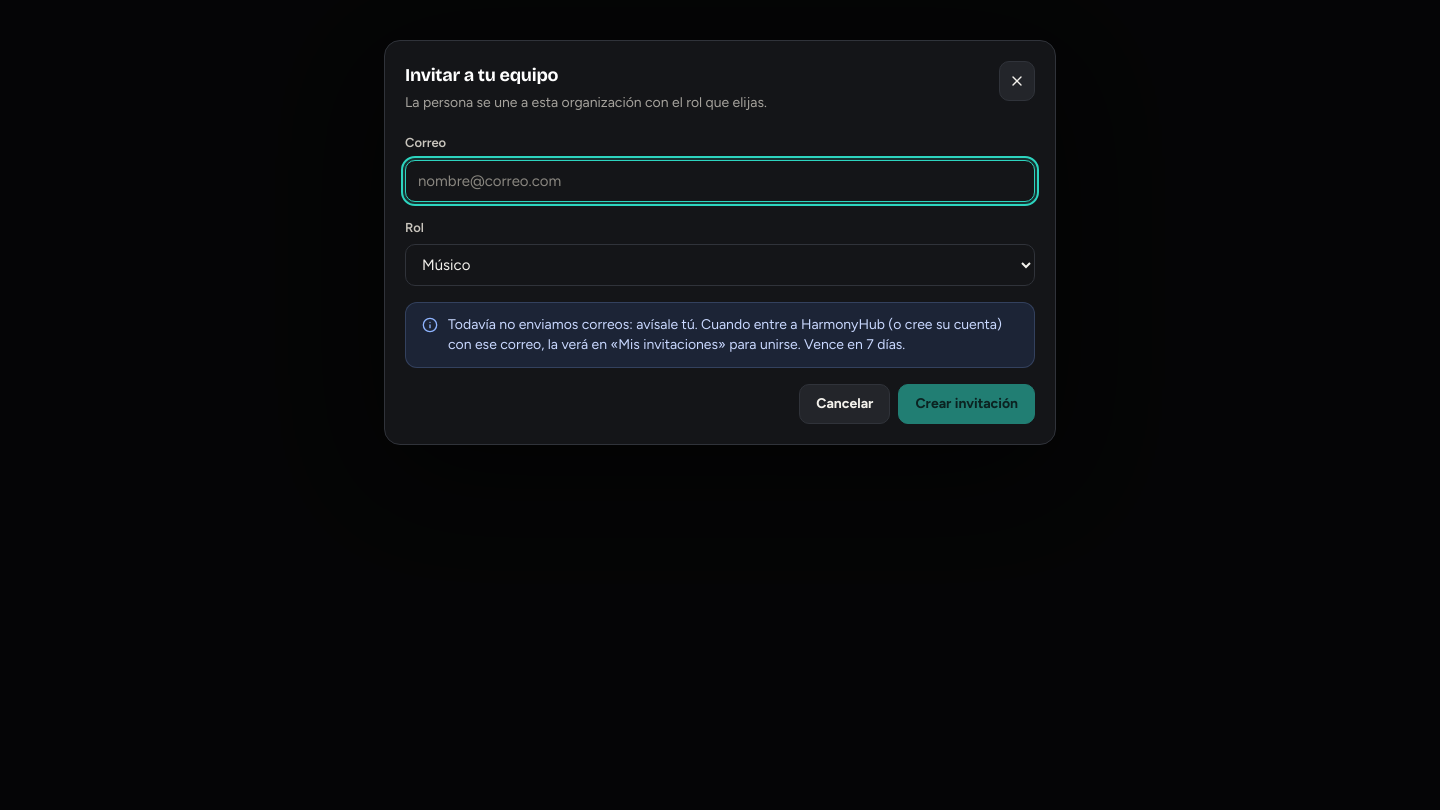
Scenario: InviteMemberDialog › invita con correo y rol, y explica cómo se une la persona (sin correo automático)
Type " nueva@correo.com " into the field labelled "Correo" at [720, 180], box [405,160,1035,202]
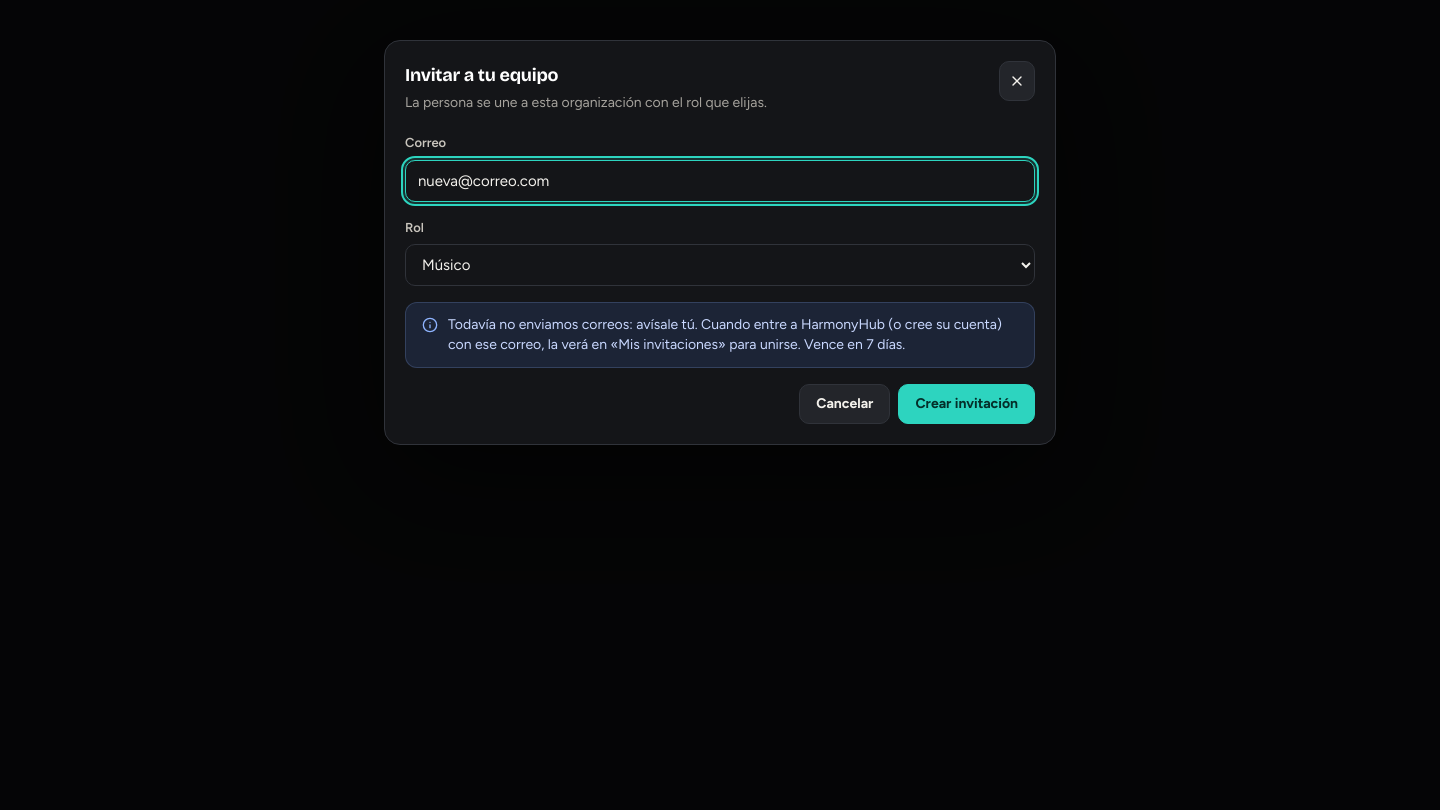
Select "Líder" in the dropdown labelled "Rol" at [720, 265], box [405,244,1035,286]
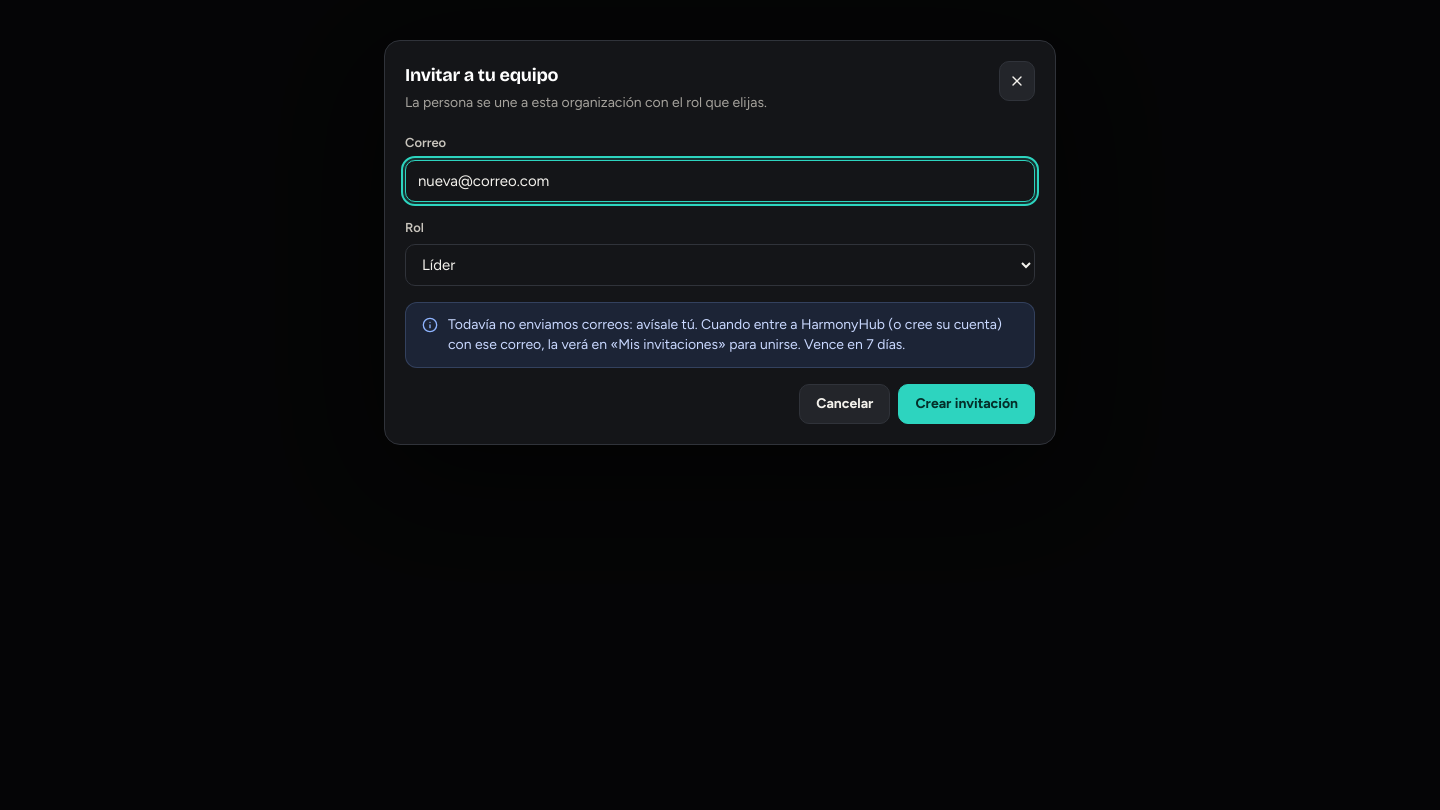
Click the button "Crear invitación" at [967, 404], box [898,384,1035,424]
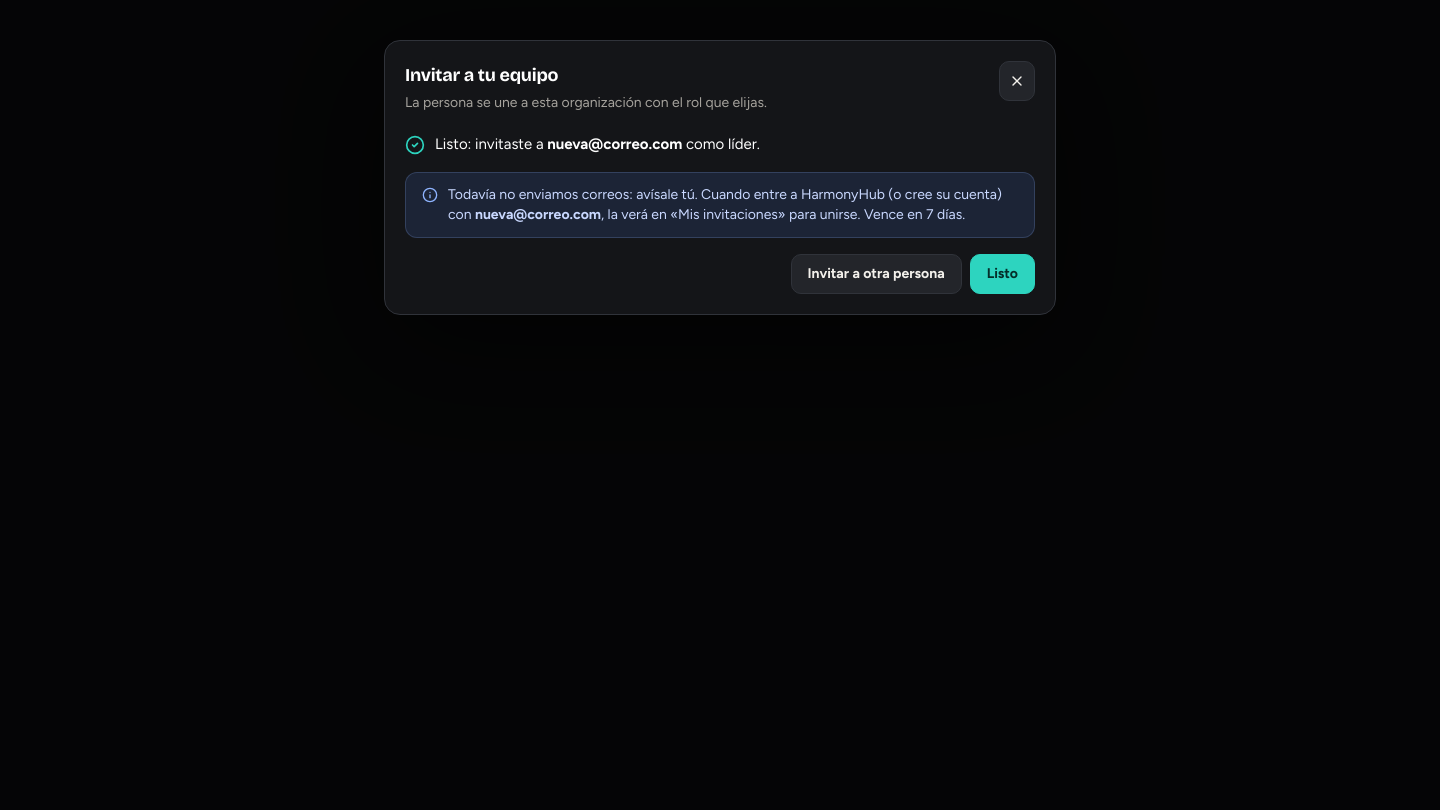
Now the message shows "invitaste a nueva@correo.com como líder", box [405,133,1035,294]
Now the message shows "Todavía no enviamos correos", box [448,186,1002,222]
